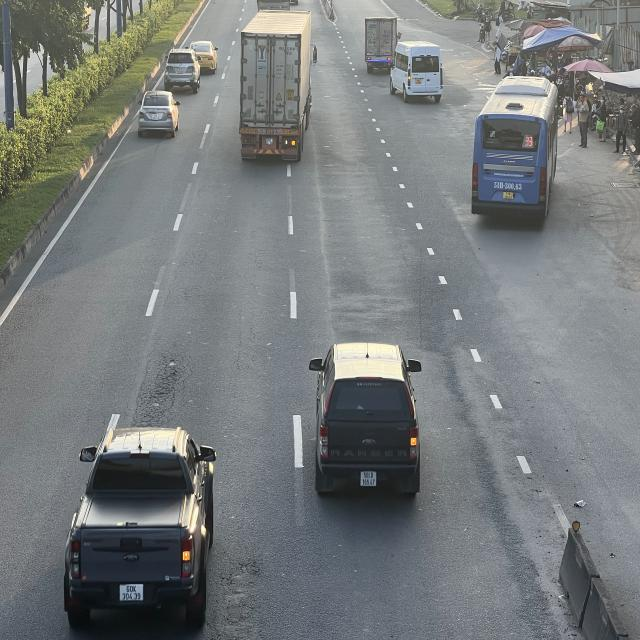car: (65, 424, 218, 628), (310, 343, 422, 505), (138, 93, 180, 139), (165, 46, 202, 93)
coach: (472, 77, 563, 222)
container: (240, 10, 316, 162)
truck: (365, 12, 401, 72)
van: (391, 40, 445, 103)
